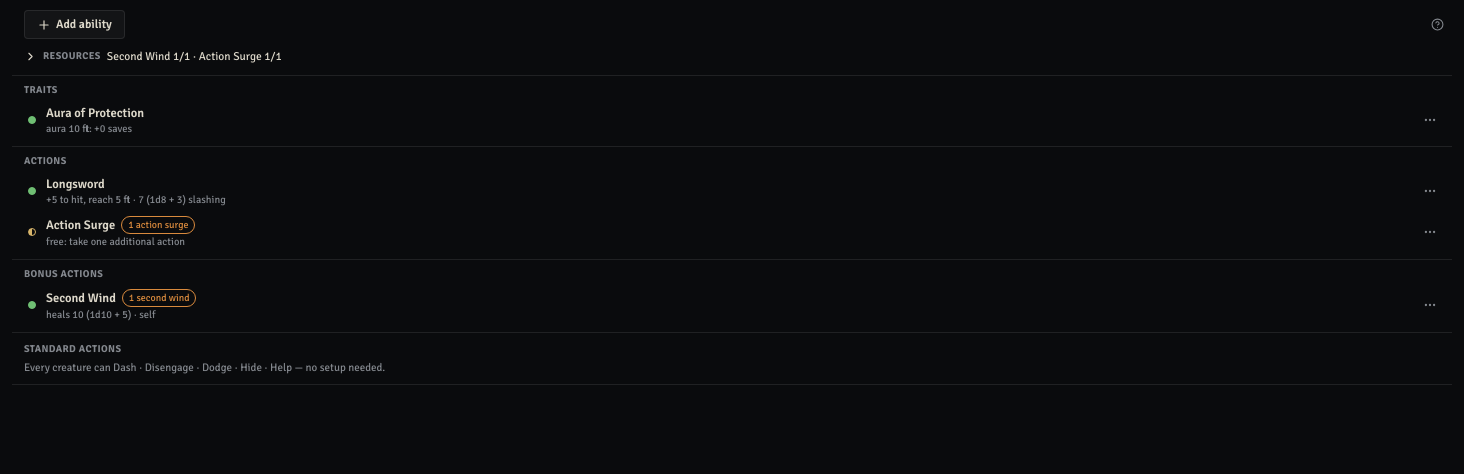
Abilities tab — feature building › shows the attached Aura of Protection's aura and what it shares
Click the button with aria-label "Edit Aura of Protection". click: (95, 113)
box: [42,100,1410,140]
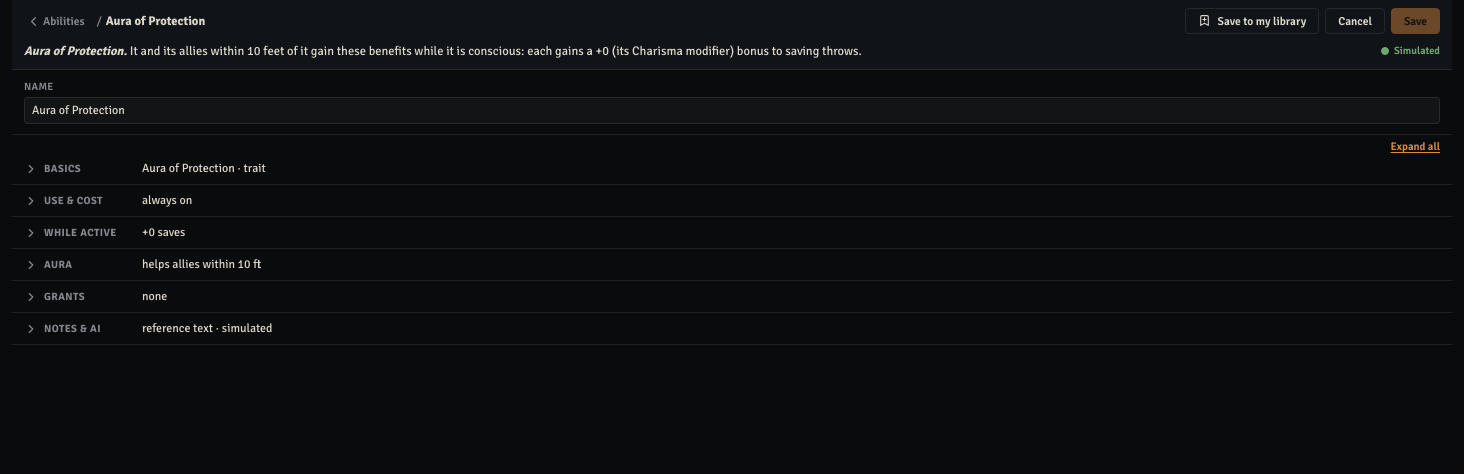
Click the button "Aura helps allies within 10 ft". click: (202, 265)
box: [12,249,1452,280]
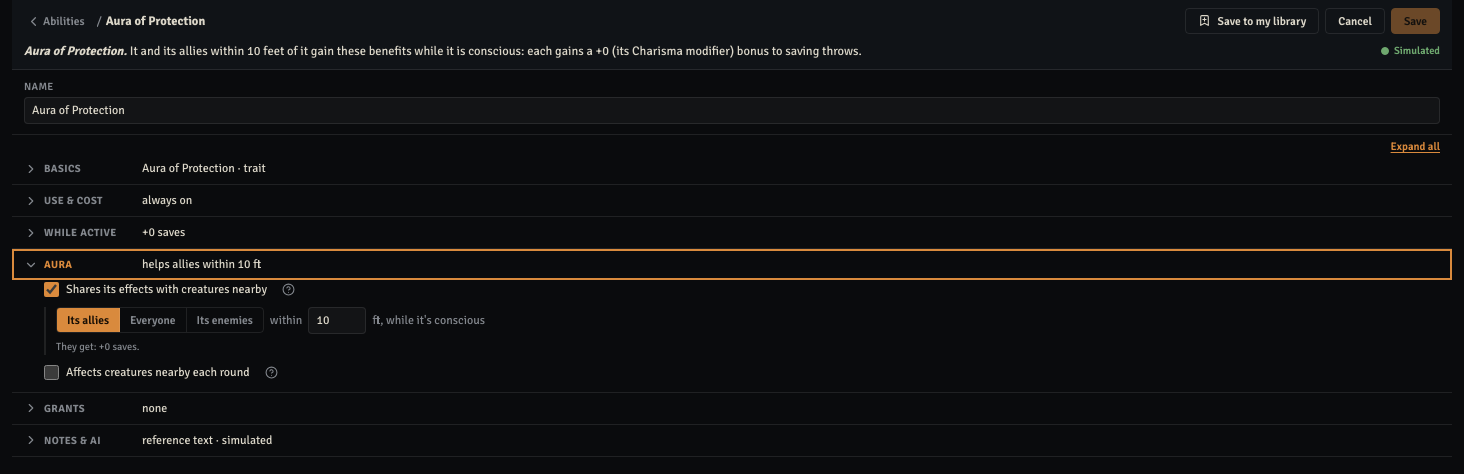
Check: the checkbox labelled "Shares its effects with creatures nearby" is checked, box [44,282,59,297]
Check: the field named "Aura range (ft)" holds "10", box [308,307,366,334]
Check: the text "They get: +0 saves." is shown, box [56,340,140,353]
